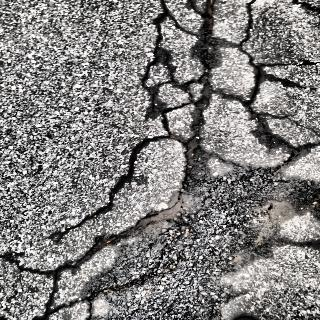alligator-crack: (8, 4, 311, 318)
